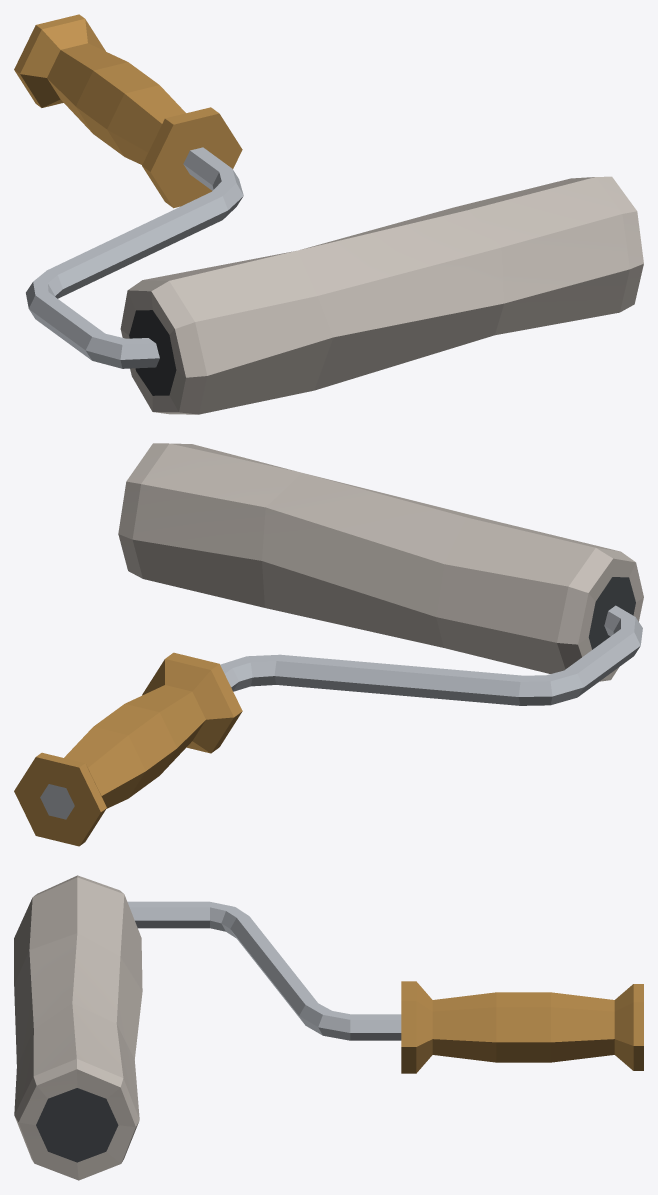
File: SM_Item_Paint_Roller_01.fbx
3 renders of one model, top to bottom at view 1: azimuth 30°, elevation 25°; view 2: azimuth 150°, elevation 25°; view 3: azimuth 270°, elevation 25°, orthographic. The views are drawn at different scales.
Parts seen in each view (by area): view 1: SM_Item_Paint_Roller_01_Brush, SM_Item_Paint_Roller_01; view 2: SM_Item_Paint_Roller_01_Brush, SM_Item_Paint_Roller_01; view 3: SM_Item_Paint_Roller_01_Brush, SM_Item_Paint_Roller_01.
Boxes of the visible parts, x1,y1,x2,y2 form: SM_Item_Paint_Roller_01_Brush: (120,176,643,414); SM_Item_Paint_Roller_01: (14,14,243,368); SM_Item_Paint_Roller_01_Brush: (118,443,643,681); SM_Item_Paint_Roller_01: (14,605,642,846); SM_Item_Paint_Roller_01_Brush: (14,875,142,1180); SM_Item_Paint_Roller_01: (127,901,643,1073).
Size of the model in its own units: 39.92 by 10.22 by 49.06.
